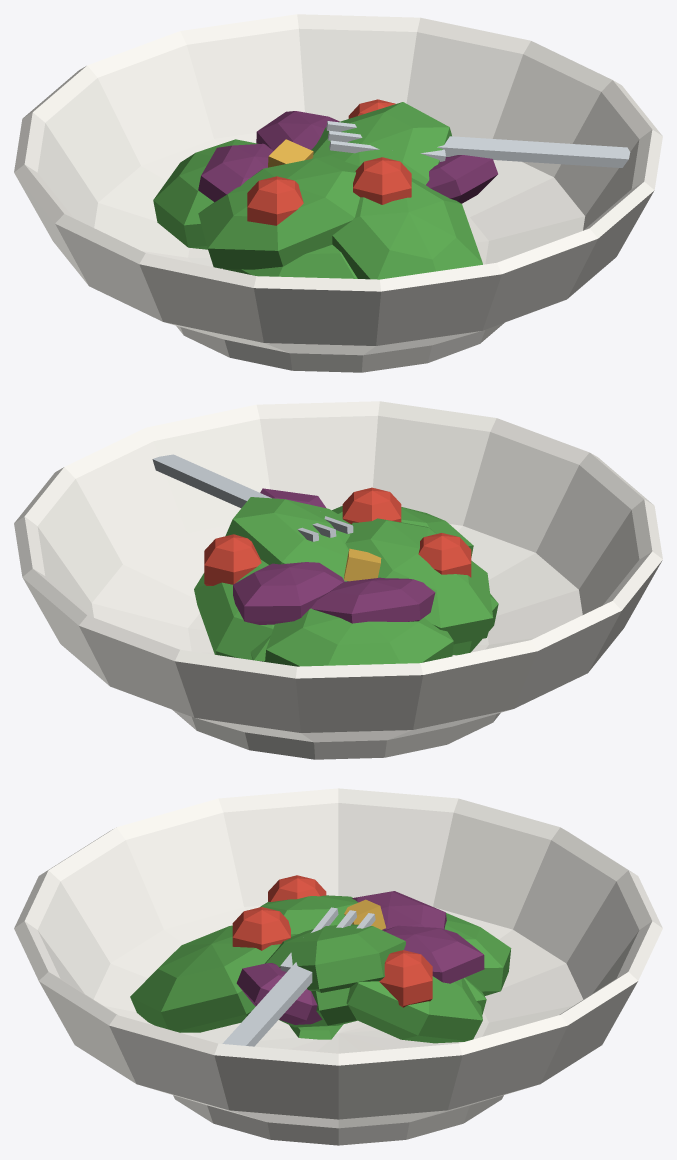
The model's file is salad-lite.glb.
3 views of the same model, one above another, from view 1: azimuth 30°, elevation 25°; view 2: azimuth 150°, elevation 25°; view 3: azimuth 270°, elevation 25° (orthographic).
Visible parts, largest first — view 1: VesselMesh, SaladFullGreens, SaladFullPurple, SaladFork, SaladFullTomatoes, SaladPartialGreens, SaladFullCroutons; view 2: VesselMesh, SaladFullGreens, SaladFullPurple, SaladFullTomatoes, SaladFork, SaladFullCroutons, SaladPartialGreens; view 3: VesselMesh, SaladFullGreens, SaladFullPurple, SaladFullTomatoes, SaladFork, SaladPartialGreens, SaladFullCroutons, SaladEmptyShred.
Part boxes in pixels (x1,y1,x2,y2): VesselMesh: [14, 14, 662, 372]; SaladFullGreens: [153, 102, 482, 279]; SaladFullPurple: [198, 111, 497, 203]; SaladFork: [326, 121, 630, 167]; SaladFullTomatoes: [247, 99, 411, 225]; SaladPartialGreens: [223, 244, 357, 278]; SaladFullCroutons: [268, 139, 313, 167]; VesselMesh: [14, 401, 662, 759]; SaladFullGreens: [194, 497, 493, 666]; SaladFullPurple: [233, 488, 435, 624]; SaladFullTomatoes: [204, 487, 471, 585]; SaladFork: [152, 454, 353, 541]; SaladFullCroutons: [344, 548, 381, 581]; SaladPartialGreens: [250, 581, 498, 661]; VesselMesh: [14, 788, 662, 1145]; SaladFullGreens: [130, 895, 511, 1043]; SaladFullPurple: [236, 891, 484, 1024]; SaladFullTomatoes: [232, 875, 432, 1007]; SaladFork: [222, 907, 375, 1046]; SaladPartialGreens: [279, 977, 486, 1027]; SaladFullCroutons: [344, 899, 385, 929]; SaladEmptyShred: [289, 1024, 343, 1039].
Size of the model in its own units: 0.22 by 0.0613 by 0.22.
